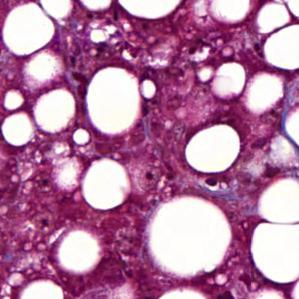steatosis: (184, 123, 241, 175), (263, 25, 299, 71), (118, 0, 180, 20)
